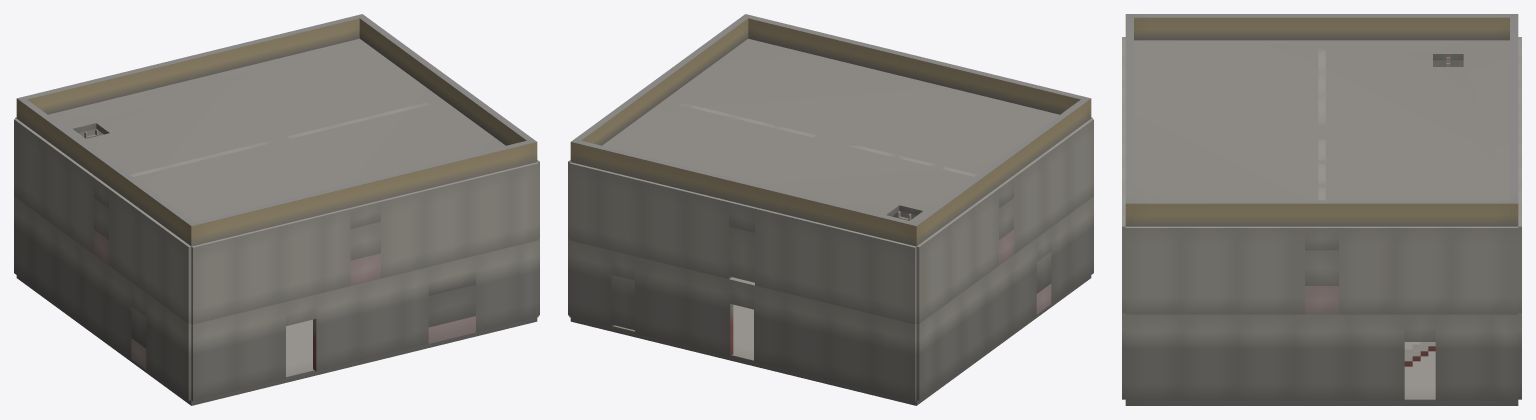
The model's file is night_pawn.patina.glb.
3 views of the same model, side by side, from view 1: azimuth 30°, elevation 25°; view 2: azimuth 150°, elevation 25°; view 3: azimuth 270°, elevation 25° (orthographic). The views are drawn at different scales.
Visible parts, largest first — view 1: slab_2, parapet_S, parapet_N, parapet_W, parapet_E, slab_0, ext_1_S_seg0, ext_0_S_seg0, ext_0_S_seg3, ext_1_S_seg4, ext_1_S_seg1, ext_1_S_seg2 (+32 smaller); view 2: slab_2, parapet_N, parapet_S, parapet_W, parapet_E, ext_1_N_seg0, ext_0_N_seg4, ext_0_N_seg0, slab_0, ext_1_N_seg1, ext_1_N_seg5, ext_1_N_seg2 (+31 smaller); view 3: slab_2, parapet_E, parapet_W, ext_1_E_seg0, ext_1_E_seg1, ext_1_E_seg2, ext_1_E_seg6, ext_1_E_seg4, ext_1_E_seg5, ext_0_E_seg0, ext_0_E_seg1, ext_0_E_seg2 (+15 smaller).
Part boxes in pixels (box(x1,y1,x2,y2)): slab_2: box(48, 38, 505, 221); parapet_S: box(187, 140, 537, 246); parapet_N: box(16, 14, 365, 119); parapet_W: box(16, 97, 197, 245); parapet_E: box(356, 14, 536, 163); slab_0: box(16, 275, 537, 405); ext_1_S_seg0: box(191, 236, 236, 324); ext_0_S_seg0: box(191, 314, 236, 401); ext_0_S_seg3: box(313, 284, 359, 371); ext_1_S_seg4: box(380, 190, 424, 278); ext_1_S_seg1: box(235, 225, 279, 313); ext_1_S_seg2: box(278, 215, 322, 303); slab_2: box(602, 38, 1059, 221); parapet_N: box(570, 140, 920, 246); parapet_S: box(742, 14, 1091, 121); parapet_W: box(910, 97, 1090, 245); parapet_E: box(571, 14, 750, 163); ext_1_N_seg0: box(871, 236, 916, 324); ext_0_N_seg4: box(687, 269, 733, 356); ext_0_N_seg0: box(871, 314, 916, 401); slab_0: box(570, 275, 1091, 405); ext_1_N_seg1: box(828, 225, 872, 313); ext_1_N_seg5: box(642, 180, 686, 268); ext_1_N_seg2: box(785, 215, 829, 303); slab_2: box(1134, 40, 1509, 200); parapet_E: box(1125, 200, 1518, 226); parapet_W: box(1125, 14, 1517, 40); ext_1_E_seg0: box(1125, 226, 1181, 314); ext_1_E_seg1: box(1181, 226, 1237, 314); ext_1_E_seg2: box(1237, 226, 1293, 314); ext_1_E_seg6: box(1451, 226, 1507, 314); ext_1_E_seg4: box(1339, 226, 1394, 314); ext_1_E_seg5: box(1395, 226, 1450, 314); ext_0_E_seg0: box(1125, 314, 1181, 400); ext_0_E_seg1: box(1181, 314, 1237, 400); ext_0_E_seg2: box(1237, 314, 1293, 400).
Size of what is drawn, in the model's own units: 16.25 by 7.95 by 14.25.
